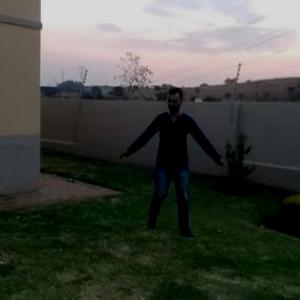land: (120, 79, 228, 238)
